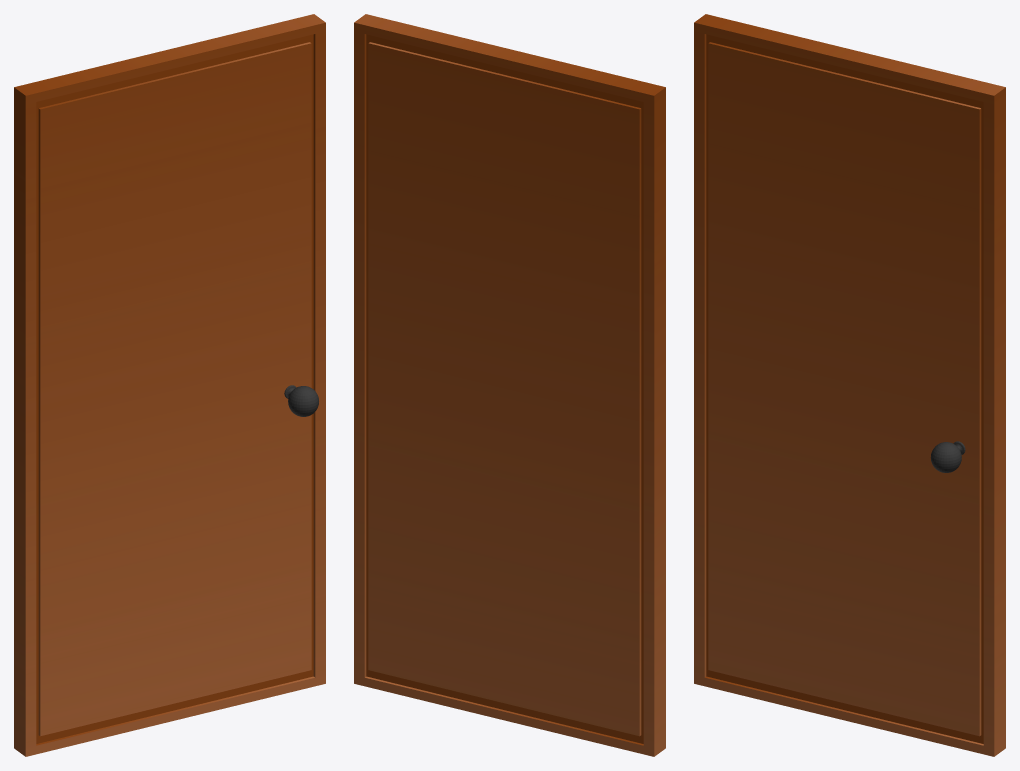
File: Door con UV.fbx
3 views of the same model, side by side, from view 1: azimuth 30°, elevation 25°; view 2: azimuth 150°, elevation 25°; view 3: azimuth 330°, elevation 25° (orthographic).
Visible parts, largest first — view 1: Sphere.001; view 2: Sphere.001; view 3: Sphere.001.
Boxes of the visible parts, x1,y1,x2,y2 form: Sphere.001: (14,14,325,756); Sphere.001: (354,14,665,756); Sphere.001: (694,14,1005,756).
Size of the model in its own units: 489 by 1029 by 91.17.
